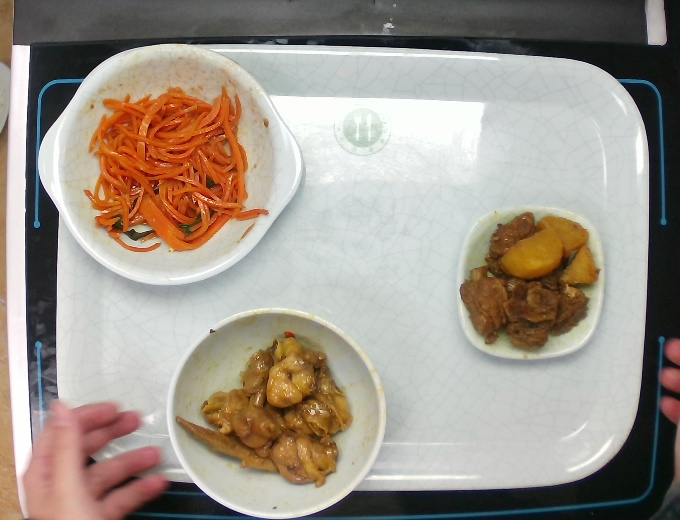JYsf-Fan_Wan: (162, 304, 389, 520)
JYsf-Shuang_Er_Wan: (35, 40, 303, 287)
JYsf-Si_Fang_Die: (453, 202, 607, 364)
